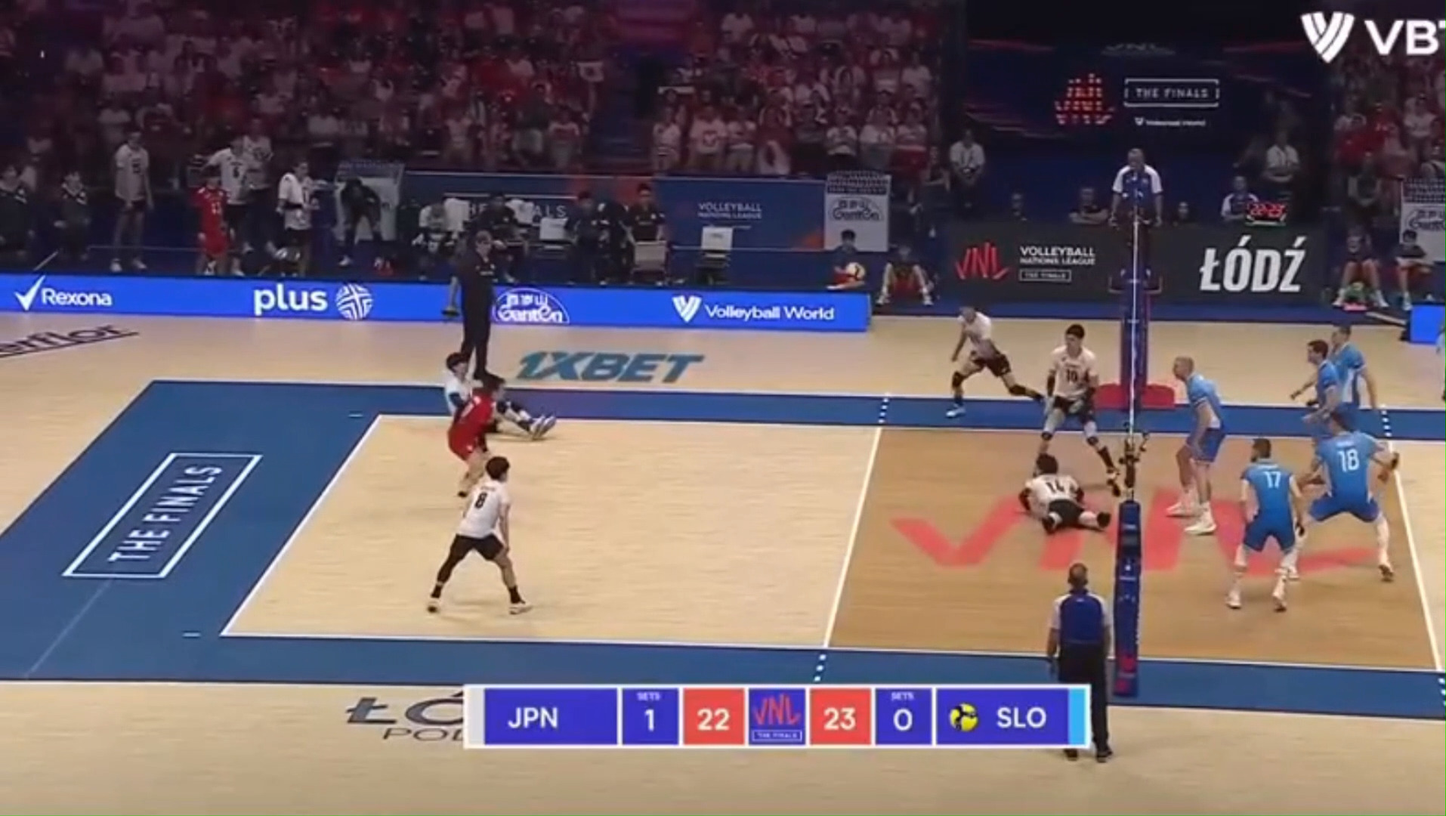ball: (842, 262, 864, 280)
player: (1305, 414, 1398, 580), (1227, 437, 1304, 611), (1168, 356, 1225, 535), (1330, 326, 1375, 426), (1305, 340, 1343, 440)
player 1: (427, 456, 529, 613), (1039, 323, 1117, 493), (946, 305, 1043, 417), (1019, 454, 1110, 533), (448, 378, 500, 495), (494, 397, 556, 438), (443, 353, 474, 413)
referee: (1046, 562, 1112, 761), (1108, 148, 1162, 288), (447, 231, 496, 378)
